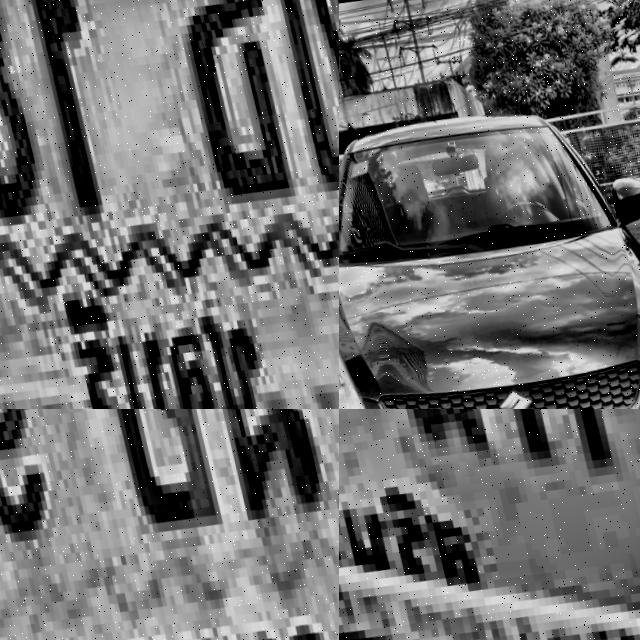license-plate: (0, 0, 339, 409), (0, 409, 339, 640), (339, 409, 640, 640)
